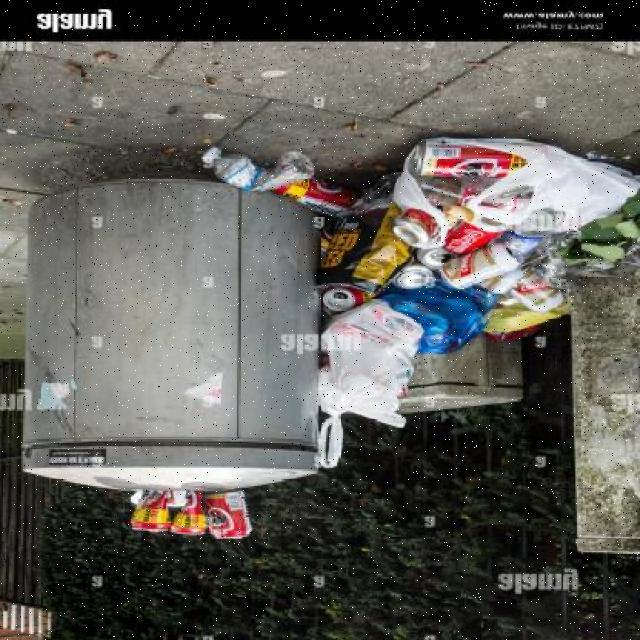garbage container: (12, 156, 328, 509)
